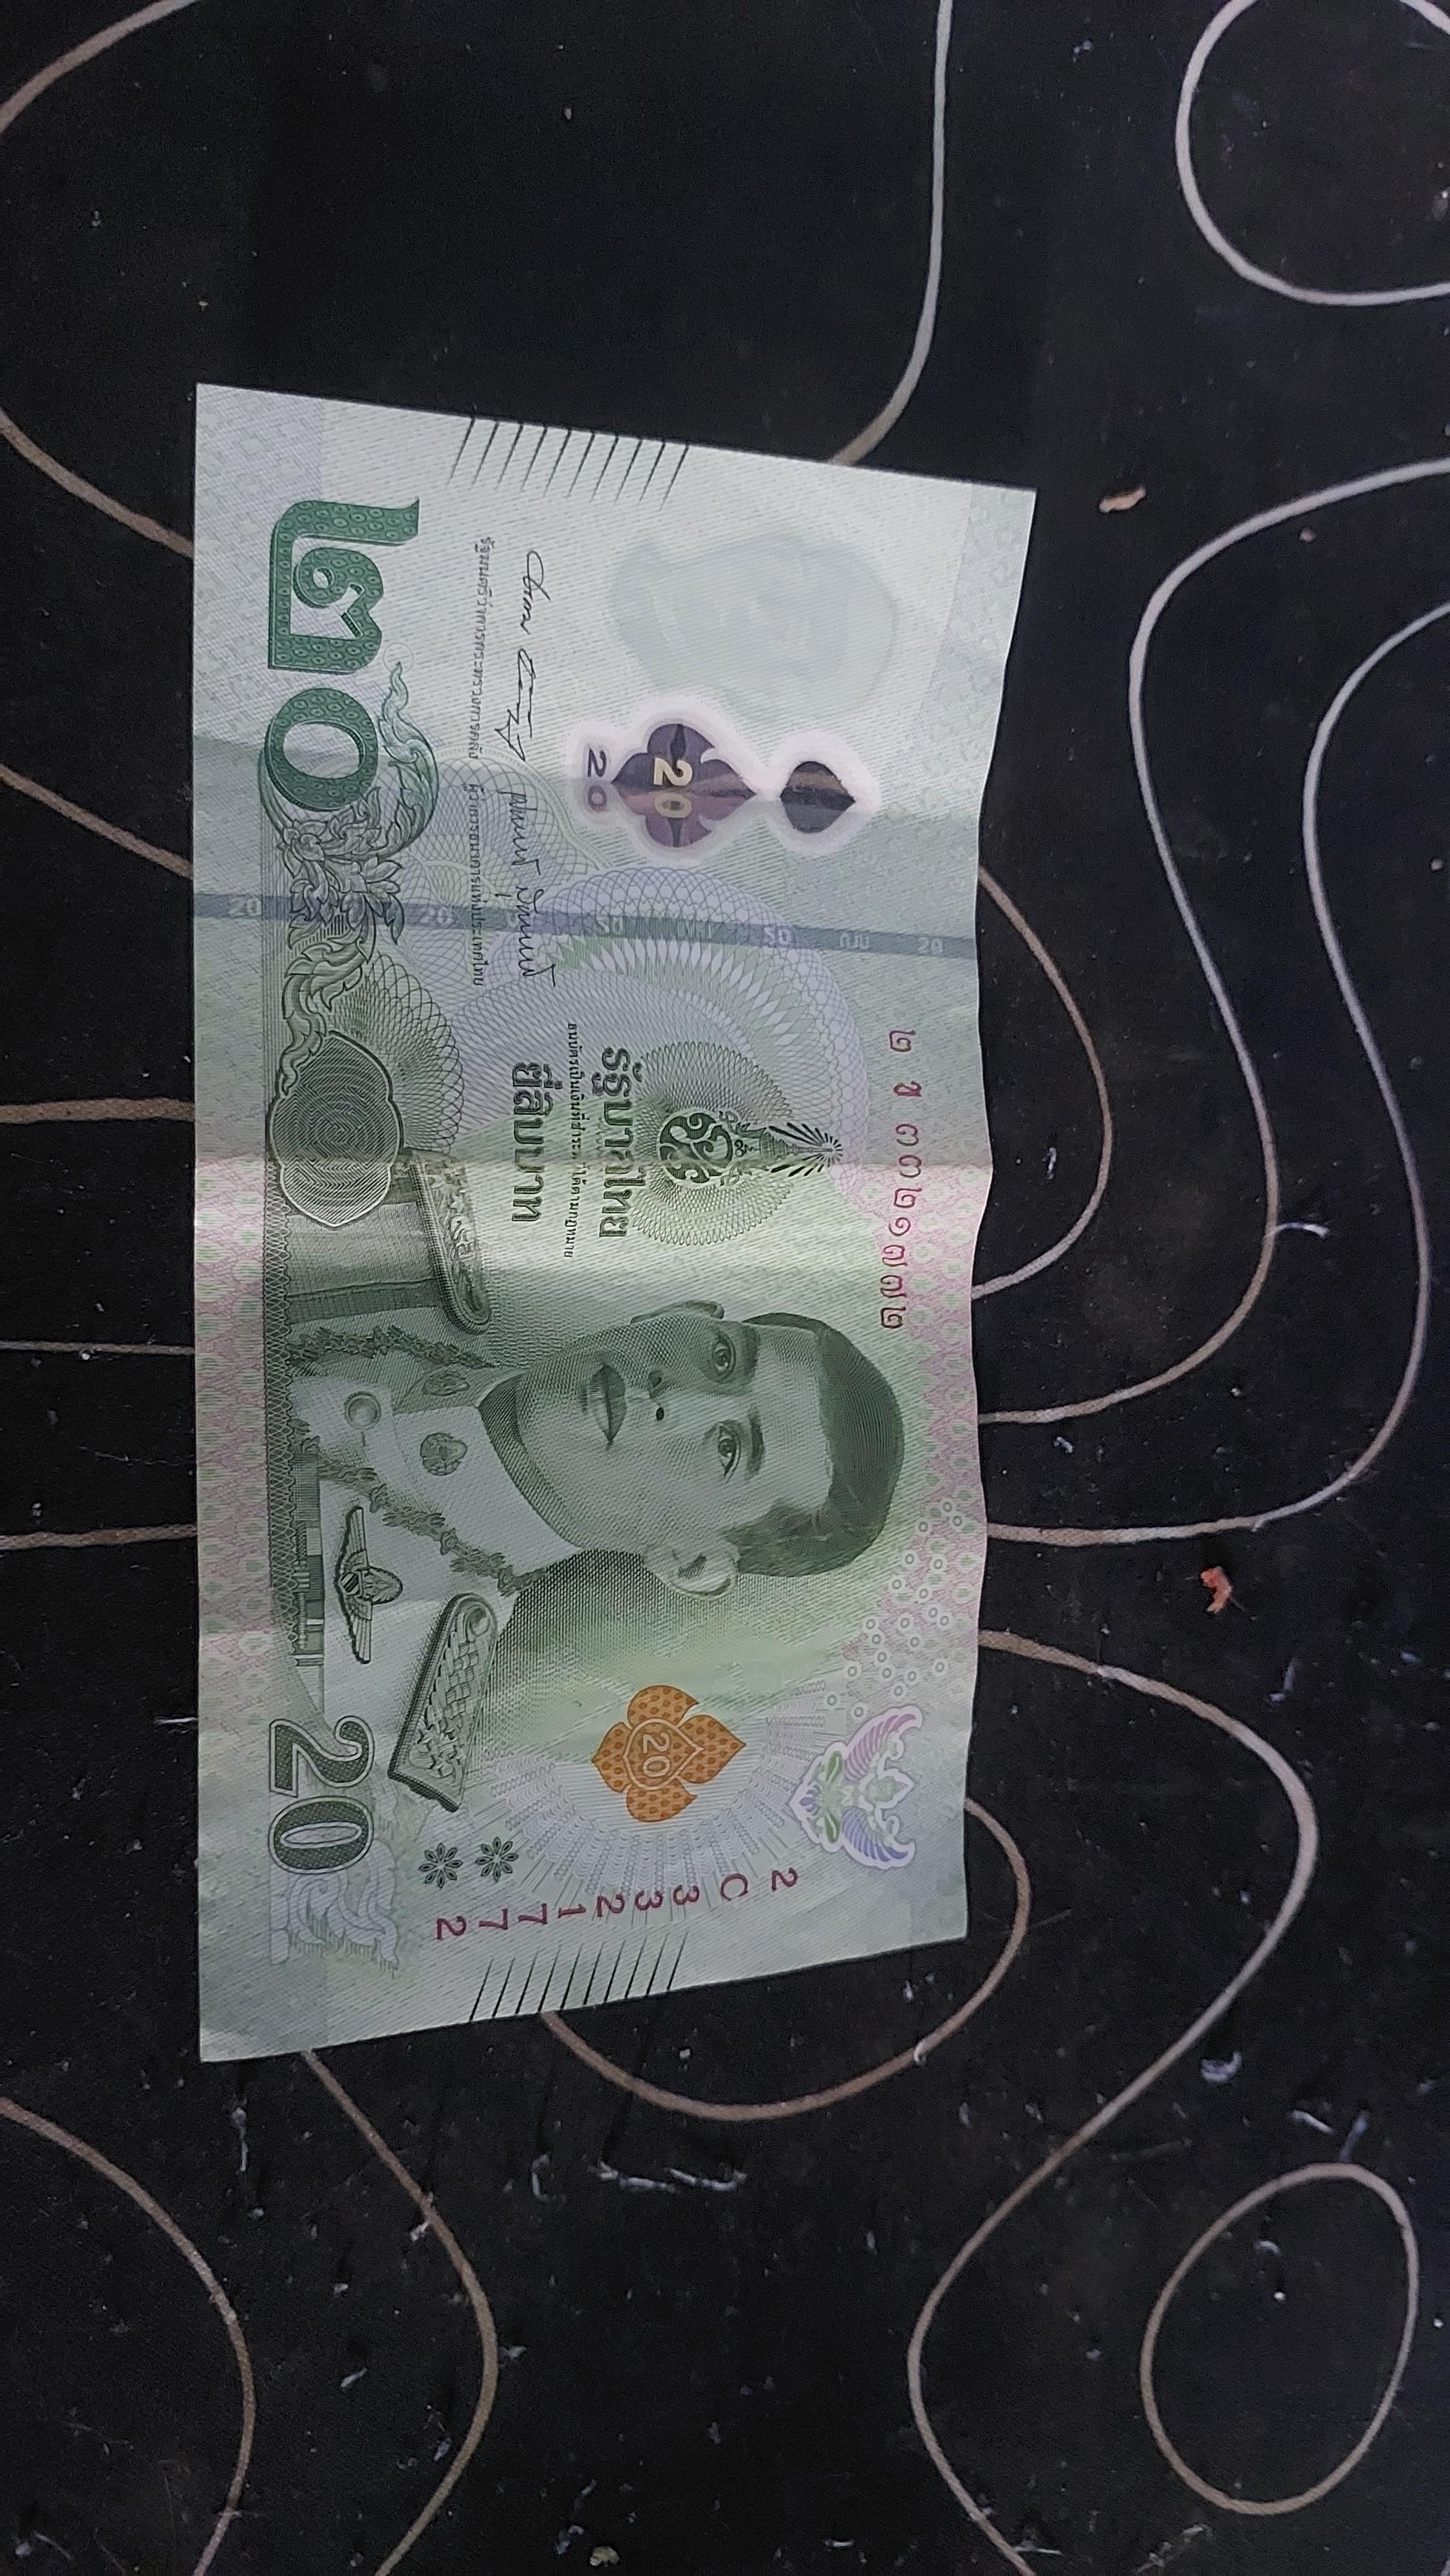20baht: (145, 299, 1066, 2120)
